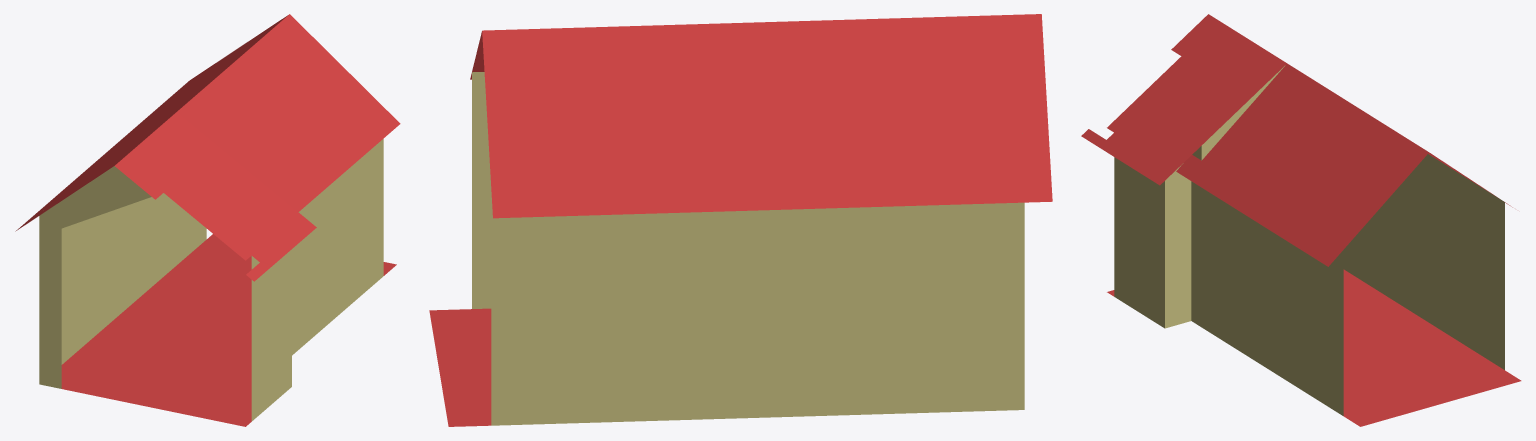
The picture shows the model from 3 angles, left to right: view 1: azimuth 30°, elevation 25°; view 2: azimuth 150°, elevation 25°; view 3: azimuth 270°, elevation 25°; orthographic projection. The views are drawn at different scales.
Size of the model in its own units: 25.55 by 23.89 by 14.33.
